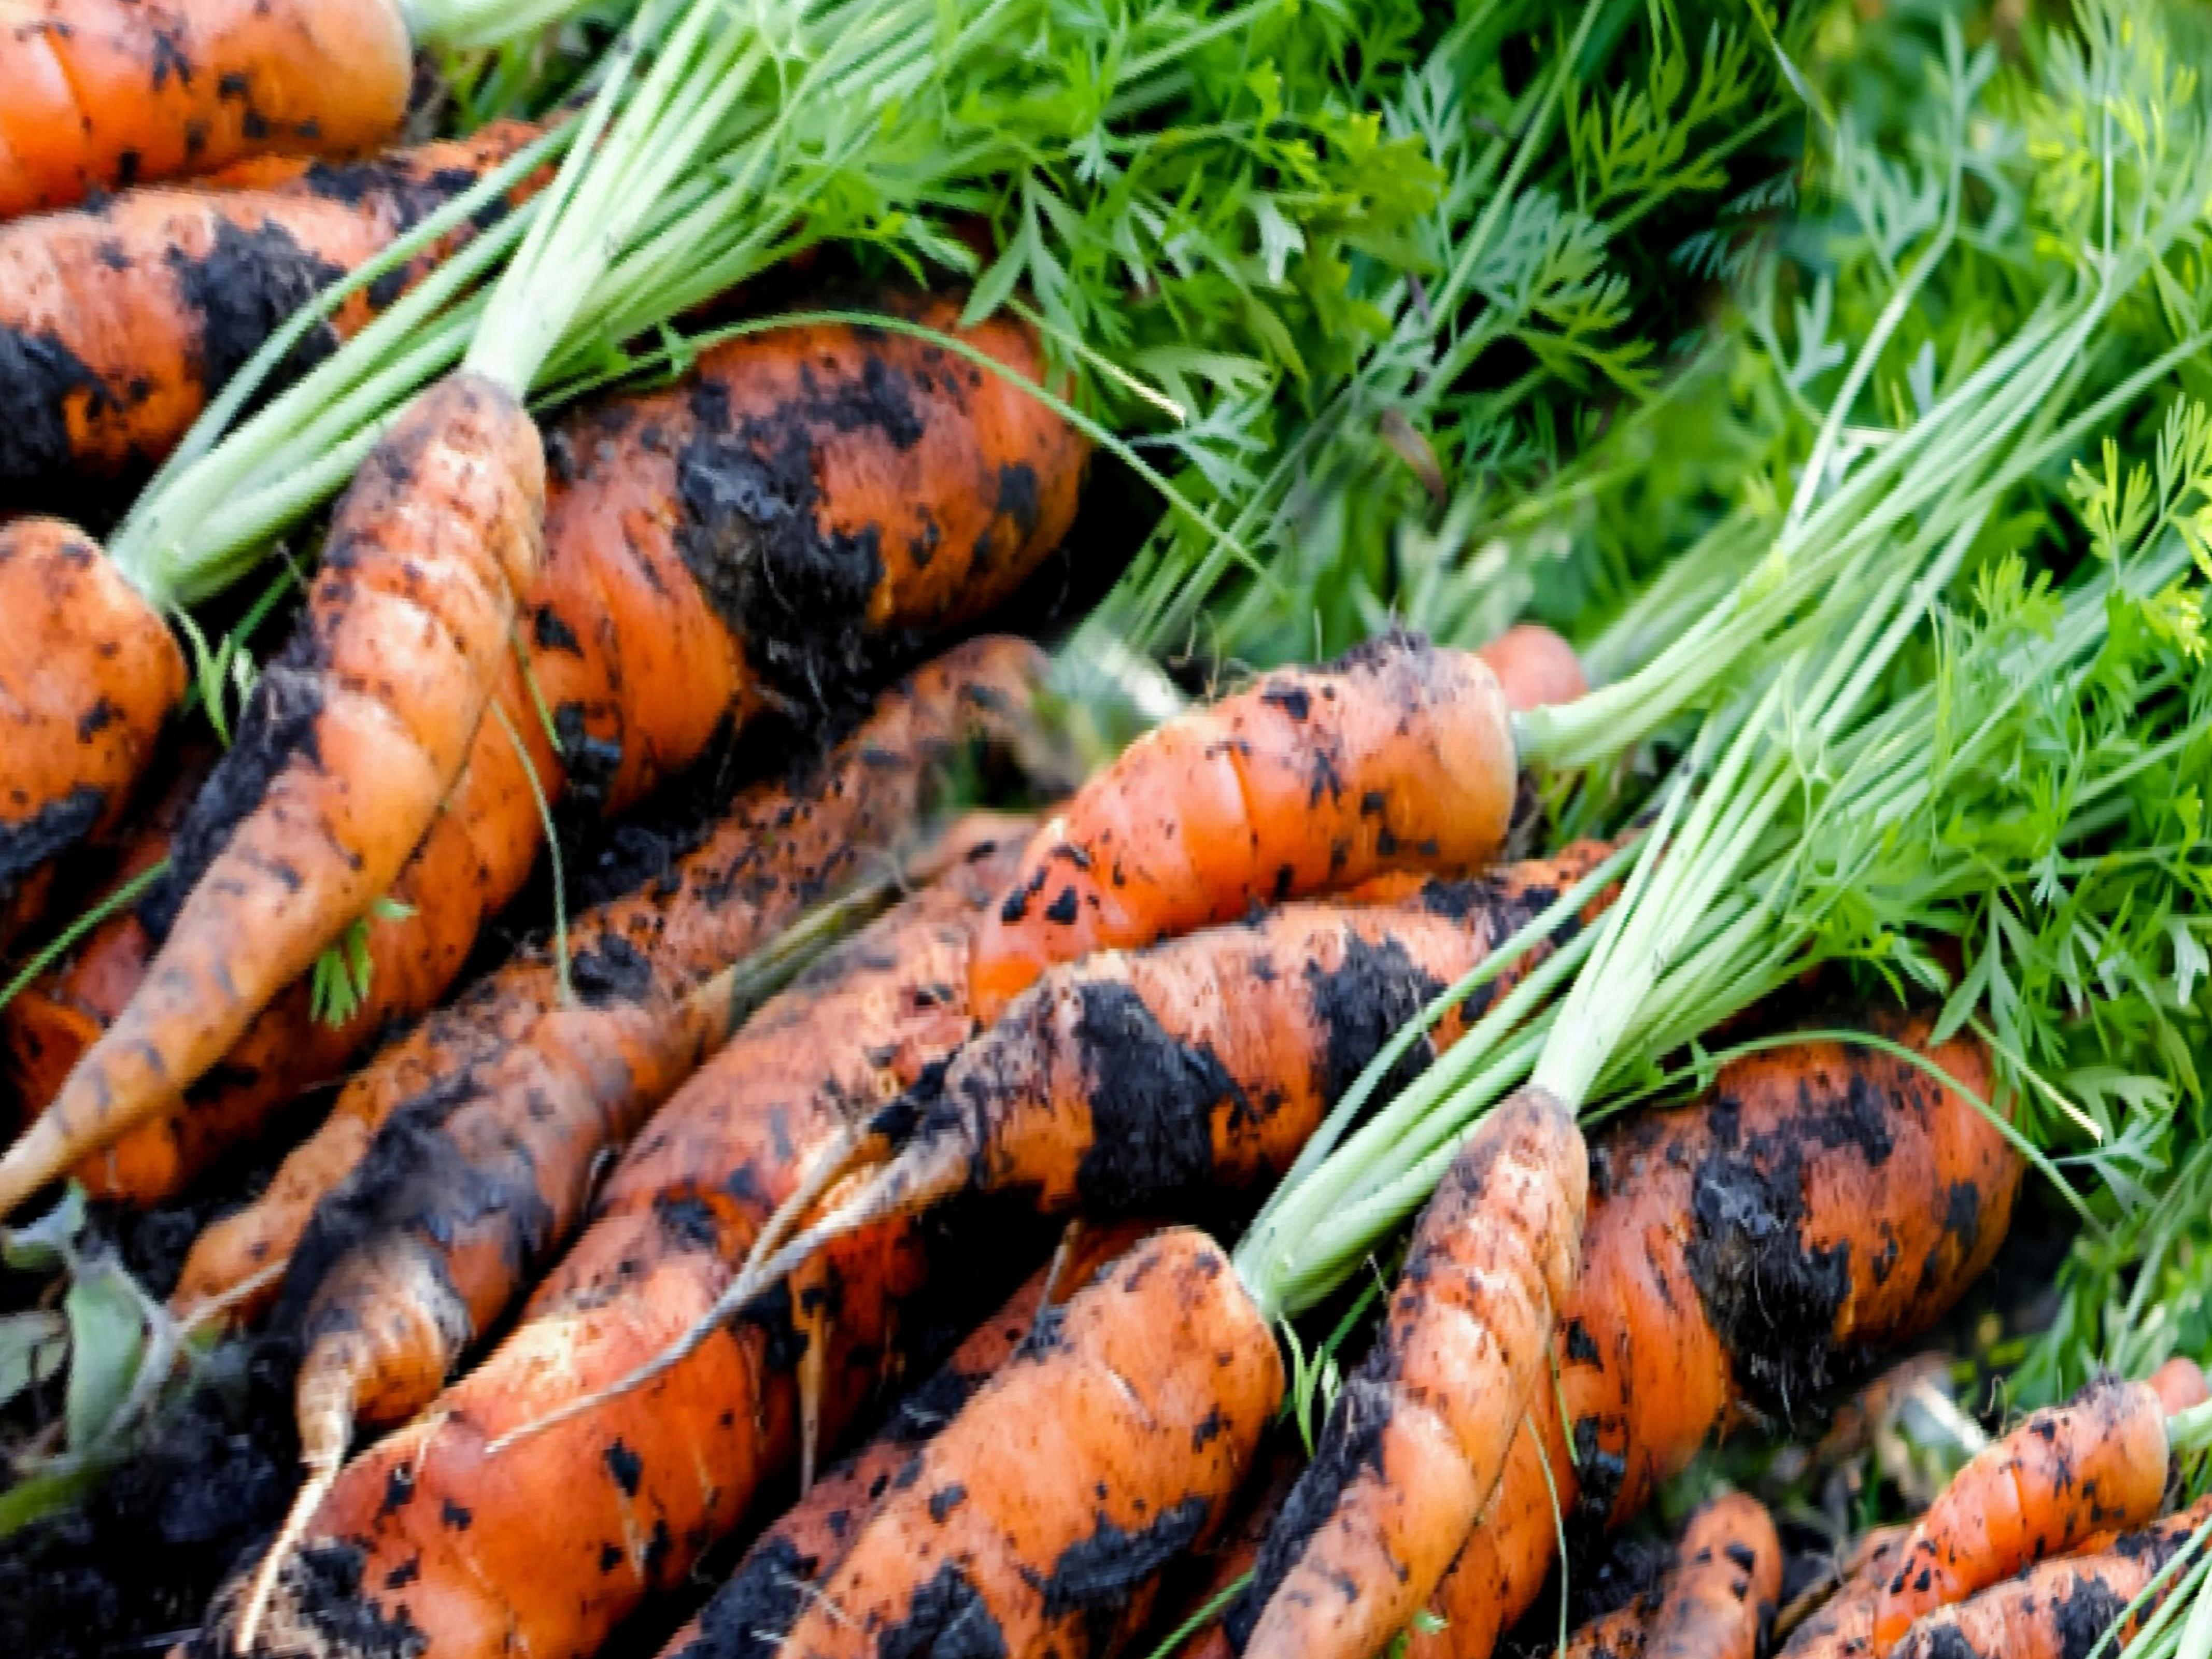carrot: (10, 0, 1291, 1652), (446, 523, 2212, 1659), (209, 319, 1573, 1659)
